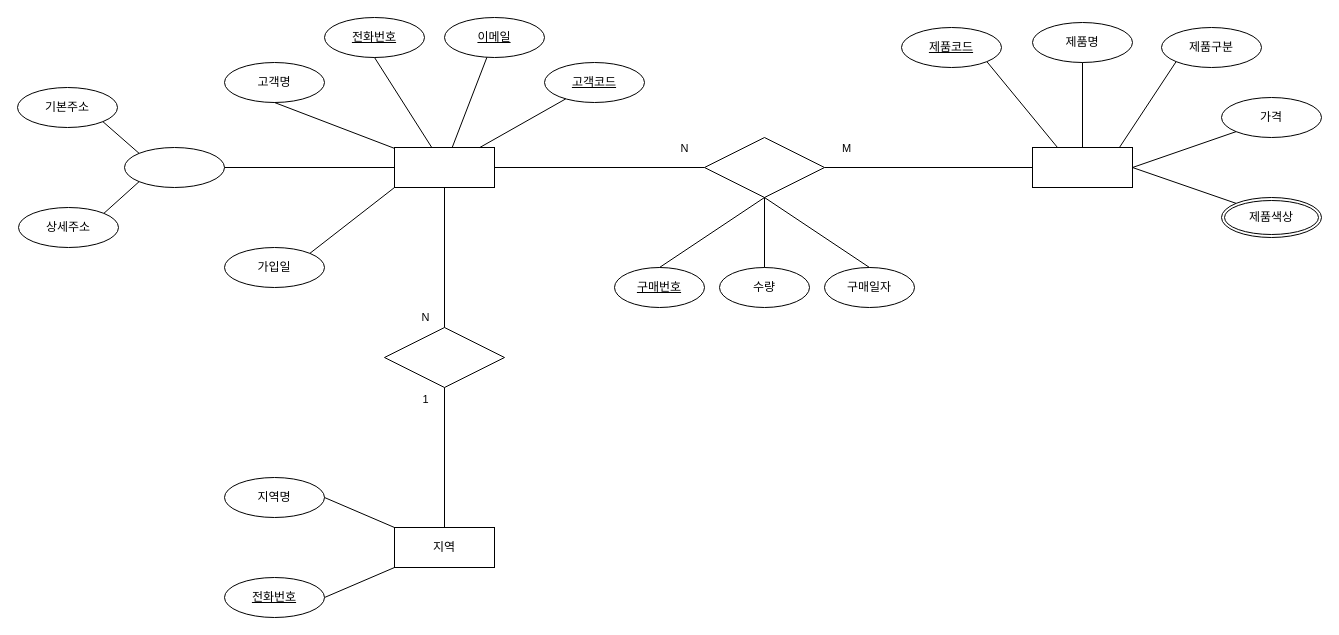
The diagram is 1339 pixels wide and 635 high, and some of its shapes have lost their labels. Each missing label, with the centre of its shape:
고객: pixel 444 167
관리: pixel 444 357
구매: pixel 764 167
제품: pixel 1082 167
주소: pixel 174 167
